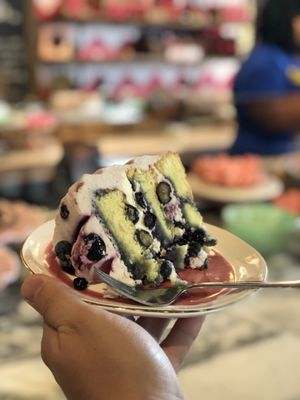pizza: (19, 273, 199, 400), (232, 0, 300, 156)
